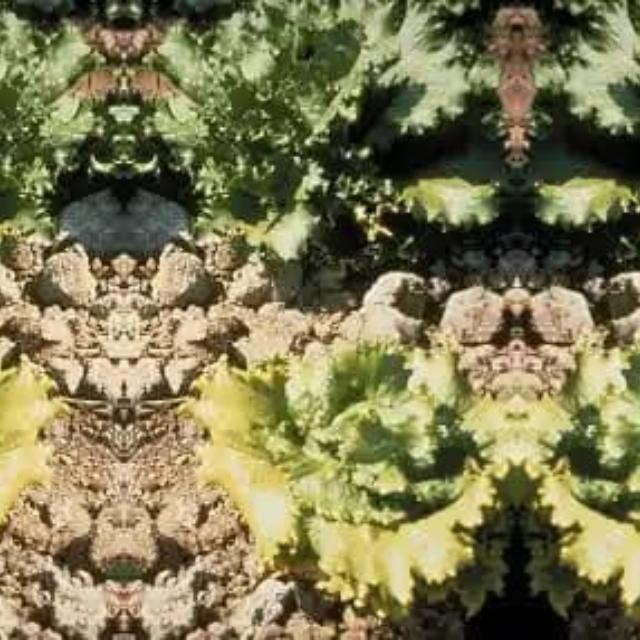lettuce mosaic virus: (170, 18, 474, 225), (211, 379, 509, 577), (525, 379, 640, 577), (559, 18, 640, 225), (0, 18, 76, 225), (0, 379, 35, 577)
